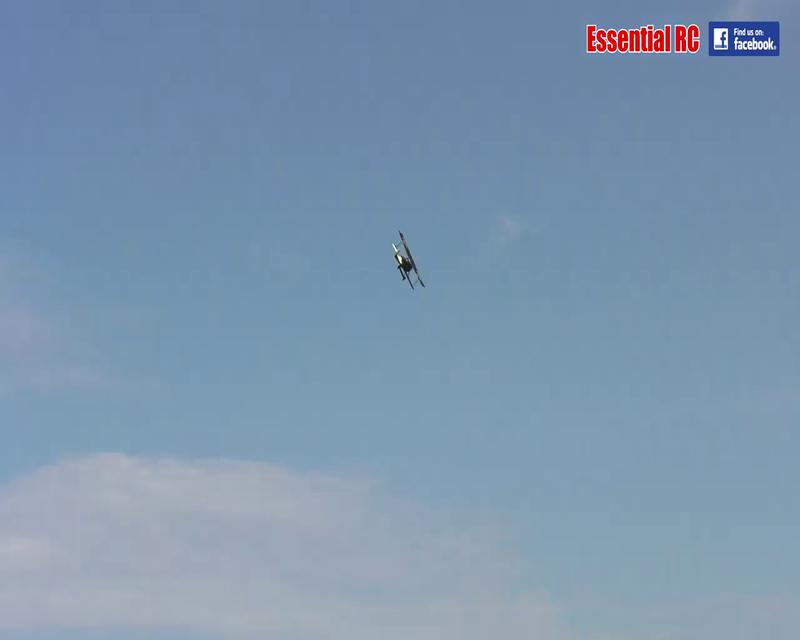UAV: (585, 22, 700, 54), (388, 229, 427, 288)
